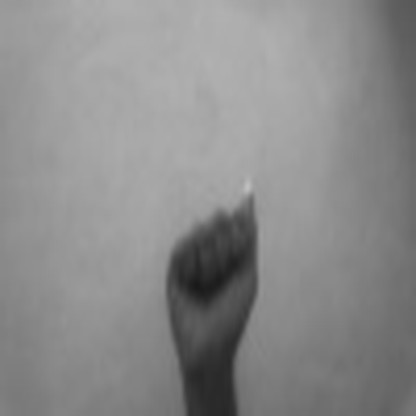a: (159, 167, 269, 359)
